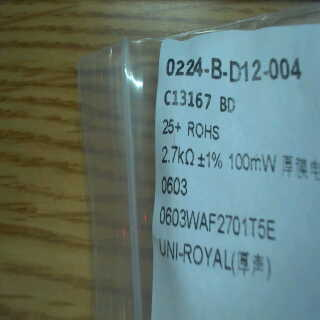2.7kR: (159, 140, 195, 171)
